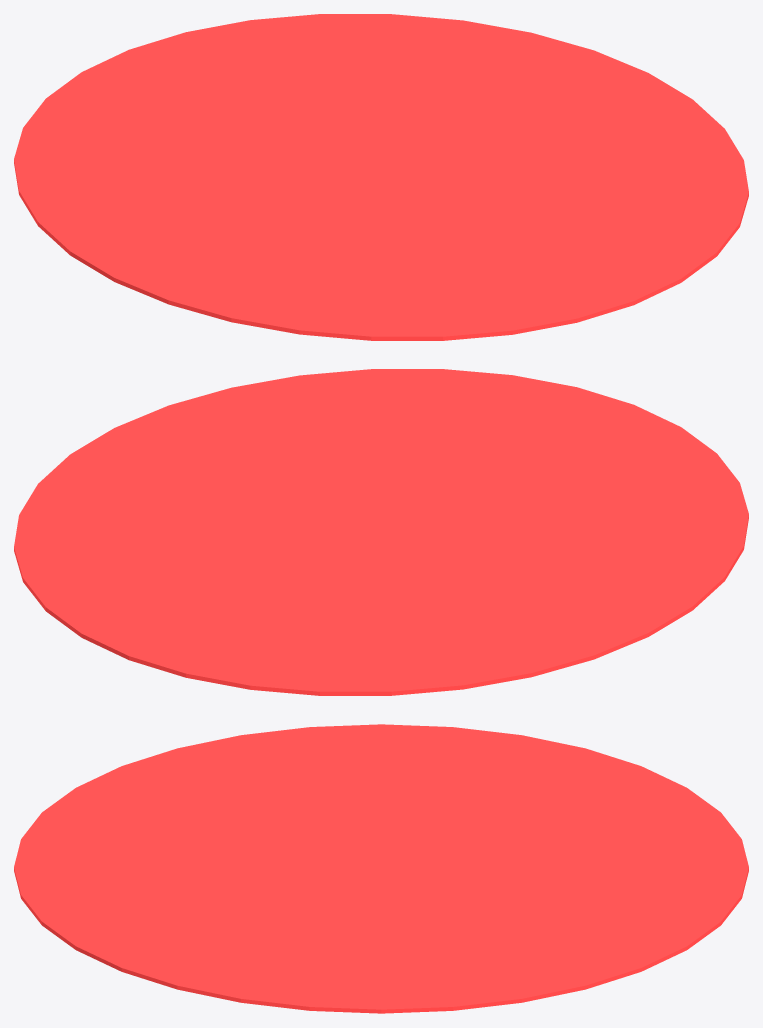
Rendered from ghost_danger_zone_lev3.glb.
3 views of the same model, one above another, from view 1: azimuth 30°, elevation 25°; view 2: azimuth 150°, elevation 25°; view 3: azimuth 270°, elevation 25° (orthographic). The views are drawn at different scales.
Visible parts, largest first — view 1: ghost_danger_zone_lev3; view 2: ghost_danger_zone_lev3; view 3: ghost_danger_zone_lev3.
Part boxes in pixels (left/top/right/bottom): ghost_danger_zone_lev3: left=14, top=14, right=748, bottom=340; ghost_danger_zone_lev3: left=14, top=369, right=748, bottom=695; ghost_danger_zone_lev3: left=14, top=724, right=748, bottom=1013.
Bounding box in the file's own units: 20.62 × 0.1326 × 22.45.
